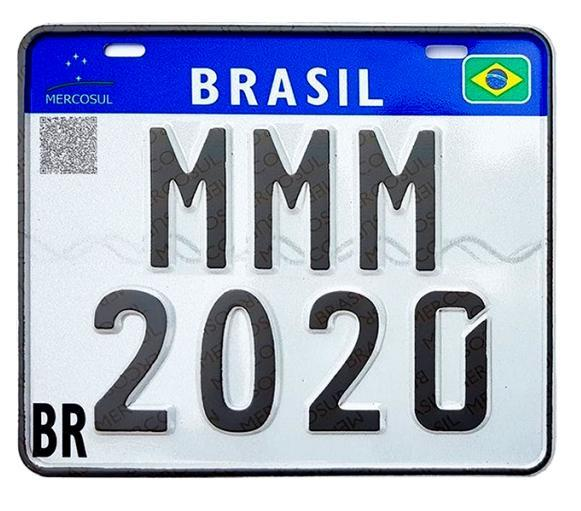placa de veiculo: (9, 16, 556, 480)
